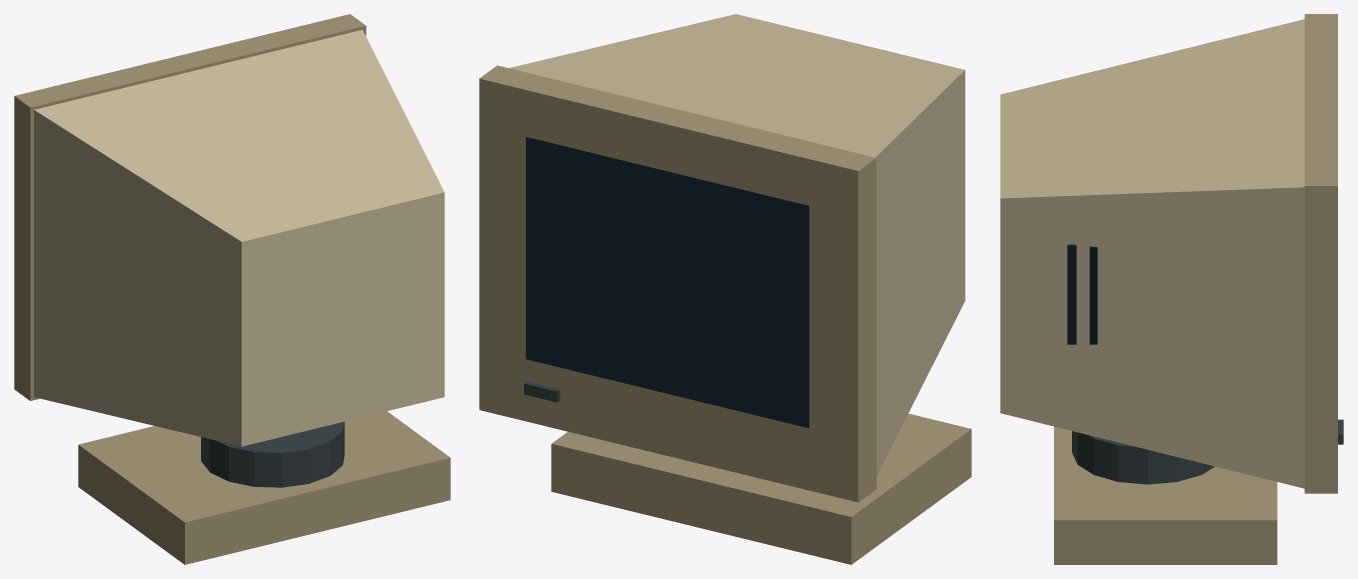
File: crt_monitor.obj
3 views of the same model, side by side, from view 1: azimuth 30°, elevation 25°; view 2: azimuth 150°, elevation 25°; view 3: azimuth 270°, elevation 25° (orthographic). The views are drawn at different scales.
Visible parts, largest first — view 1: tube_casing, swivel_base, front_bezel, swivel; view 2: front_bezel, crt_screen_4_3, tube_casing, swivel_base; view 3: tube_casing, swivel_base, front_bezel, swivel, tube_vent.
Boxes of the visible parts, box(x1,y1,x2,y2) form: tube_casing: box(34, 29, 444, 446); swivel_base: box(78, 411, 450, 564); front_bezel: box(14, 14, 366, 400); swivel: box(201, 421, 344, 487); front_bezel: box(479, 65, 876, 502); crt_screen_4_3: box(526, 137, 809, 428); tube_casing: box(509, 14, 965, 475); swivel_base: box(551, 413, 971, 564); tube_casing: box(1000, 19, 1304, 488); swivel_base: box(1054, 426, 1277, 564); front_bezel: box(1304, 14, 1337, 493); swivel: box(1072, 431, 1214, 484); tube_vent: box(1067, 244, 1097, 344).
Size of the model in its own units: 0.91 by 0.98 by 0.768.
